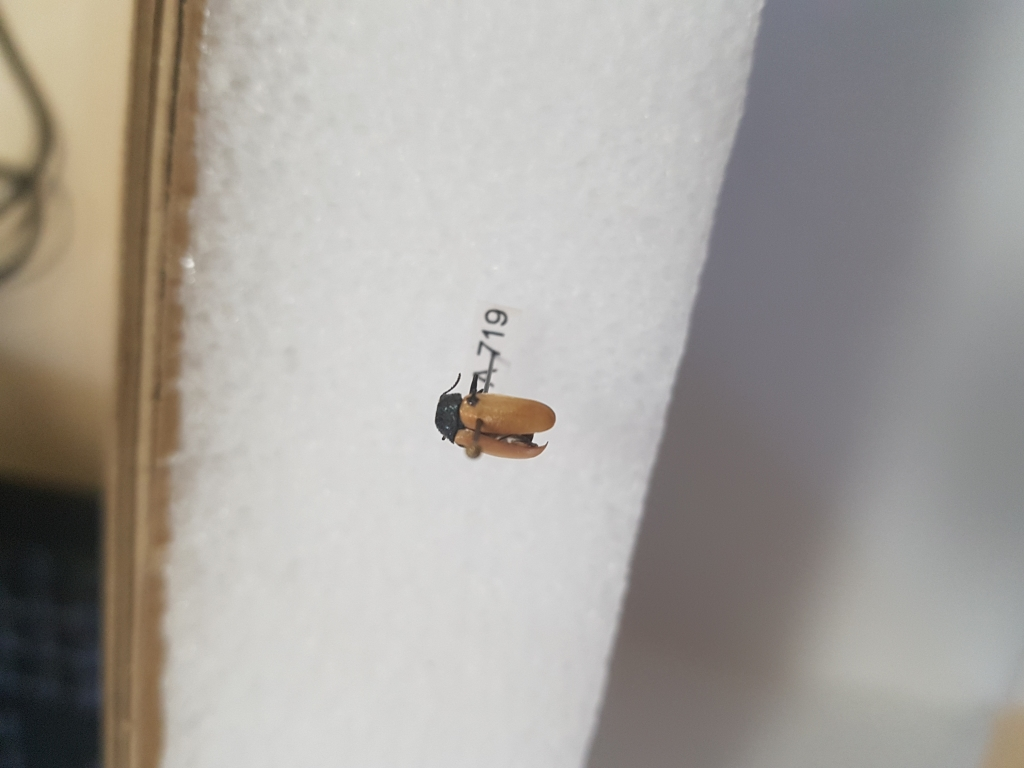Labidostomis_propinqua: (430, 372, 556, 459)
